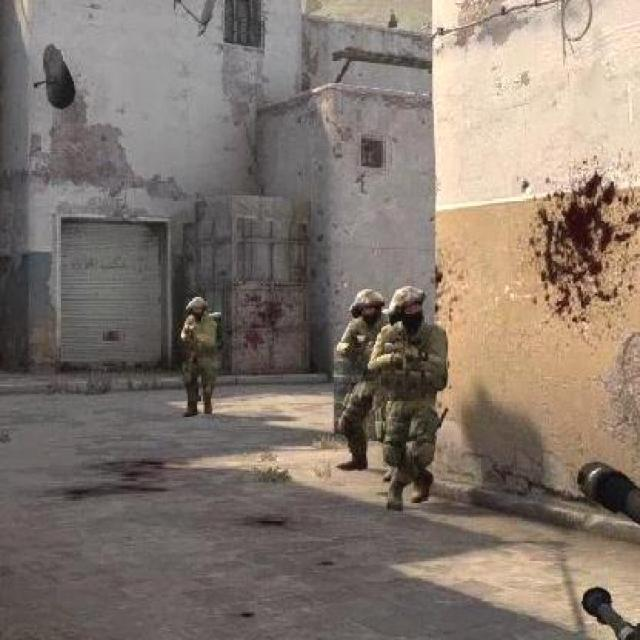CT-Body: (382, 280, 426, 325), (352, 292, 385, 320), (186, 296, 209, 322)
CT-Head: (372, 276, 445, 509), (332, 283, 378, 466), (172, 292, 234, 410)
